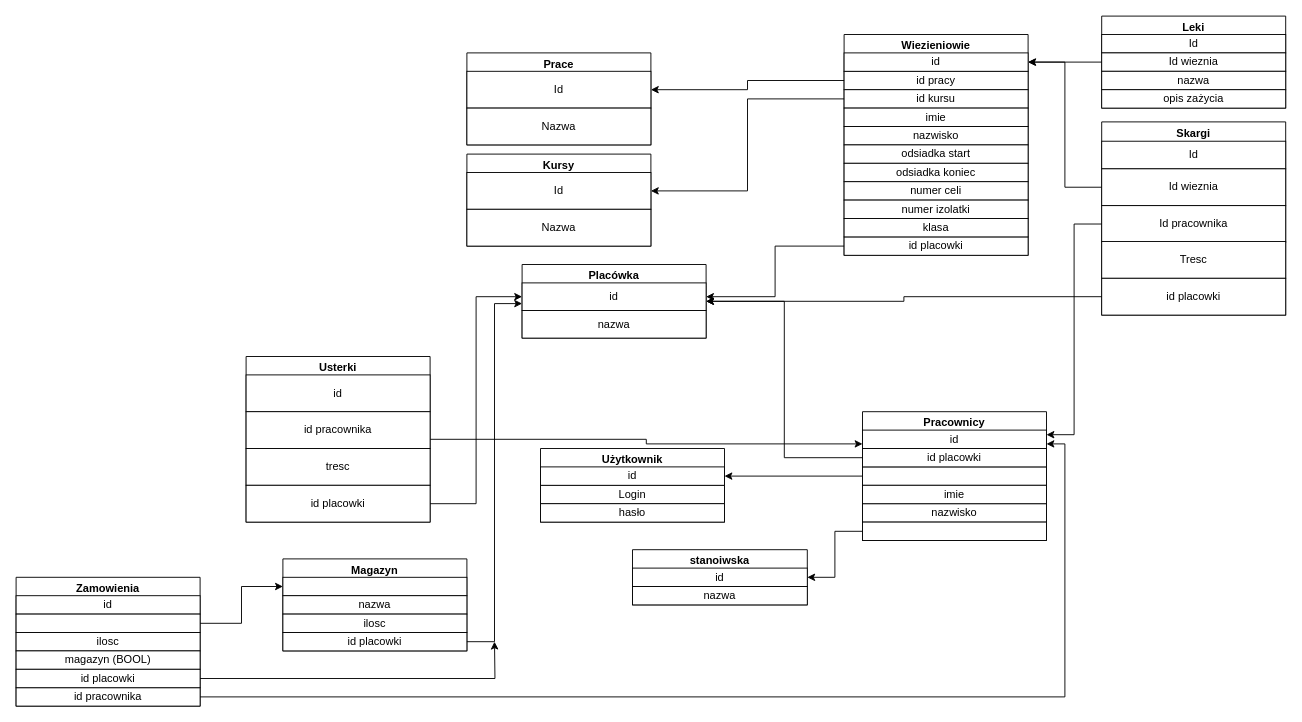
Image size: 1302x722. Some labels were removed from this diagram. Each missing label, with the centre of its shape:
"id //przedmiotu" goes at point (374, 586).
"id przedmiotu" goes at point (107, 622).
"id uzytkownika" goes at point (954, 475).
"id zasobyLudzkie" goes at point (954, 530).
